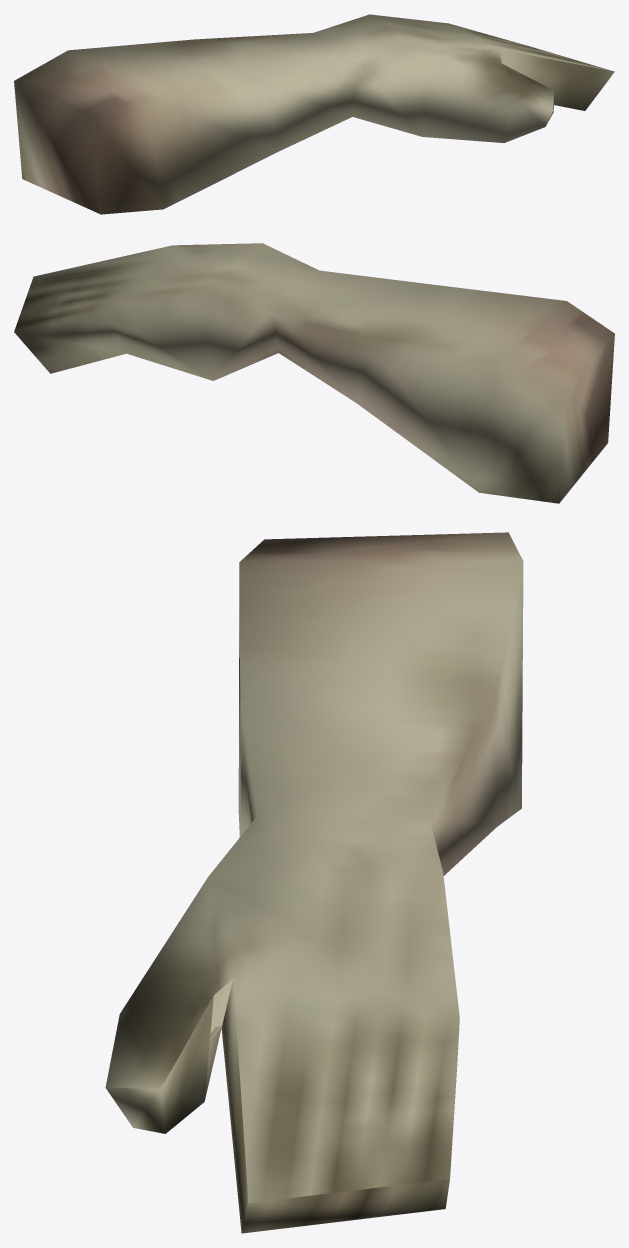
Rendered from WorldItem_Arm_Wrist_Ground.fbx.
The picture shows the model from 3 angles, top to bottom: view 1: azimuth 30°, elevation 25°; view 2: azimuth 150°, elevation 25°; view 3: azimuth 270°, elevation 25°; orthographic projection. The views are drawn at different scales.
Visible parts, largest first — view 1: Body; view 2: Body; view 3: Body.
Part boxes in pixels (x1,y1,x2,y2): Body: (14, 14, 614, 214); Body: (14, 243, 614, 503); Body: (105, 532, 523, 1233).
Size of the model in its own units: 0.2736 by 0.0613 by 0.0924.
